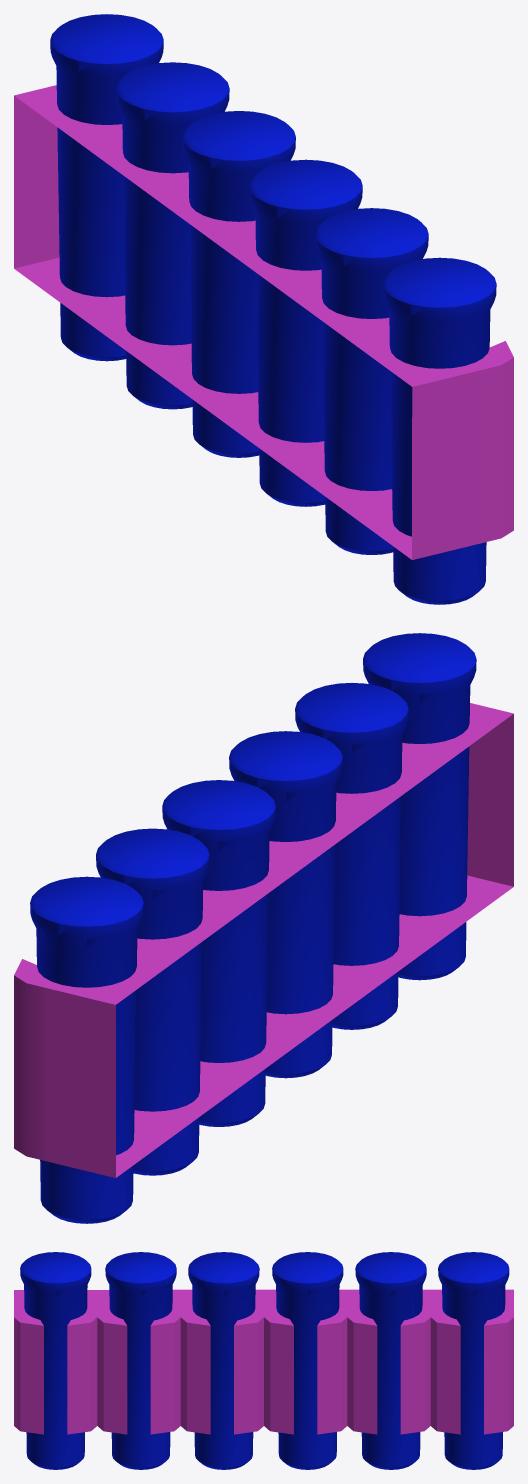
Rendered from ShellRack.fbx.
The picture shows the model from 3 angles, top to bottom: view 1: azimuth 30°, elevation 25°; view 2: azimuth 150°, elevation 25°; view 3: azimuth 270°, elevation 25°; orthographic projection. The views are drawn at different scales.
Visible parts, largest first — view 1: ShellRackShells, ShellRack; view 2: ShellRackShells, ShellRack; view 3: ShellRackShells, ShellRack.
Part boxes in pixels (box(x1,y1,x2,y2)): ShellRackShells: box(50, 14, 496, 604); ShellRack: box(14, 85, 513, 559); ShellRackShells: box(30, 633, 476, 1223); ShellRack: box(14, 703, 513, 1177); ShellRackShells: box(20, 1252, 509, 1469); ShellRack: box(14, 1289, 513, 1434).
Bounding box in the file's own units: 2.43 × 6.09 × 14.24.
